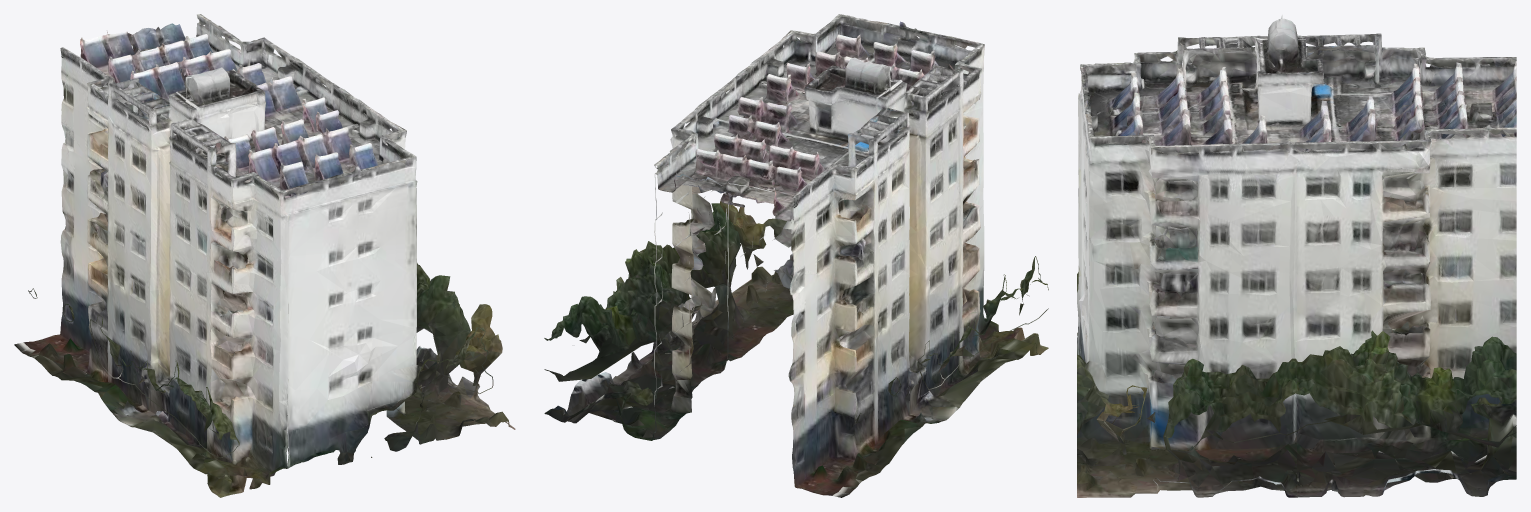
The model's file is BlockBBYX_L19_28.glb.
3 views of the same model, side by side, from view 1: azimuth 30°, elevation 25°; view 2: azimuth 150°, elevation 25°; view 3: azimuth 270°, elevation 25° (orthographic). The views are drawn at different scales.
Parts seen in each view (by area): view 1: rtc; view 2: rtc; view 3: rtc.
Boxes of the visible parts, x1,y1,x2,y2 form: rtc: (14, 14, 515, 497); rtc: (544, 14, 1048, 497); rtc: (1077, 15, 1516, 497).
Bounding box in the file's own units: 21.68 × 23.75 × 26.14.
2 materials, 2 textured.
